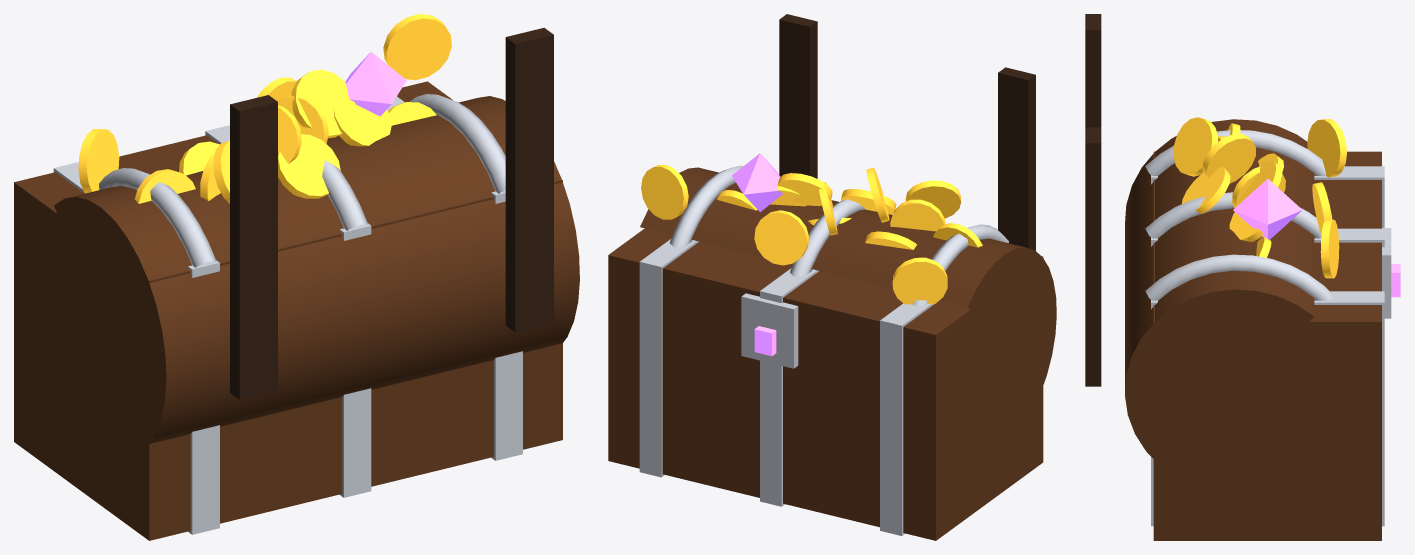
File: back_eqtz2.glb
3 views of the same model, side by side, from view 1: azimuth 30°, elevation 25°; view 2: azimuth 150°, elevation 25°; view 3: azimuth 270°, elevation 25° (orthographic). The views are drawn at different scales.
Size of the model in its own units: 1.5 by 1.56 by 1.17.
